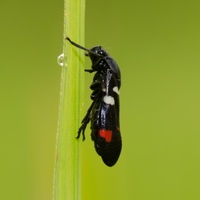insect: (65, 36, 121, 166)
